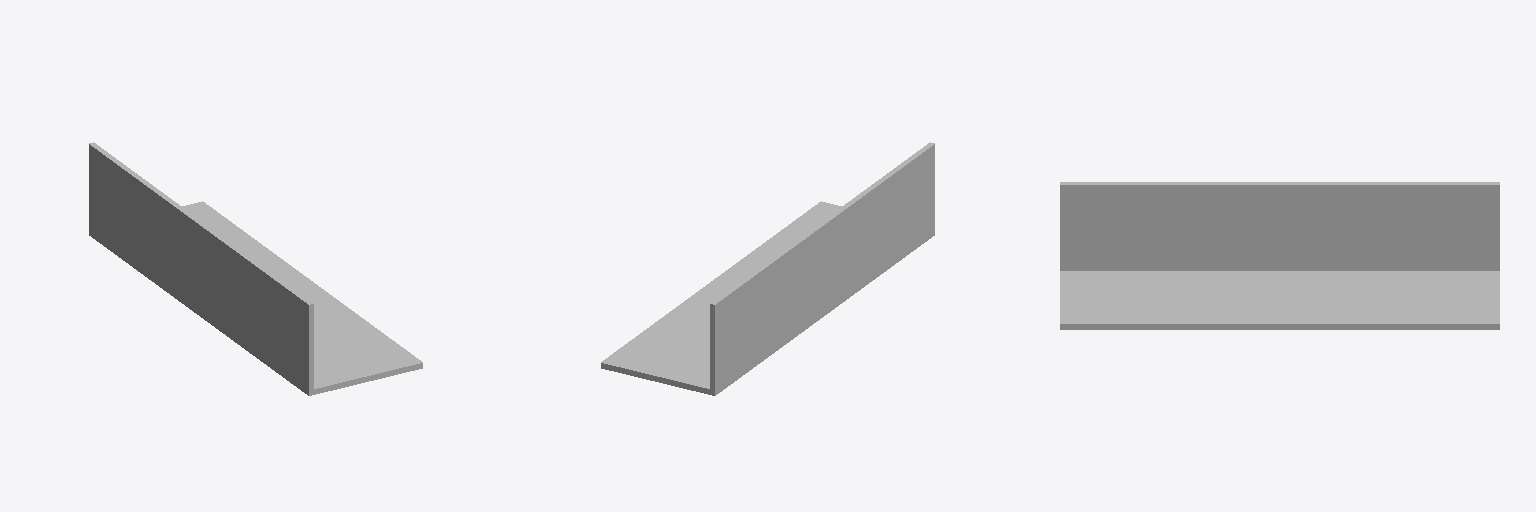
File: pasillo 1.obj
3 renders of one model, left to right at view 1: azimuth 30°, elevation 25°; view 2: azimuth 150°, elevation 25°; view 3: azimuth 270°, elevation 25°, orthographic.
Parts seen in each view (by area): view 1: object 1; view 2: object 1; view 3: object 1.
Part boxes in pixels (x1,y1,x2,y2): object 1: (89,142,422,395); object 1: (601,142,934,395); object 1: (1060,182,1499,329).
Size of the model in its own units: 2.1 by 1.6 by 7.